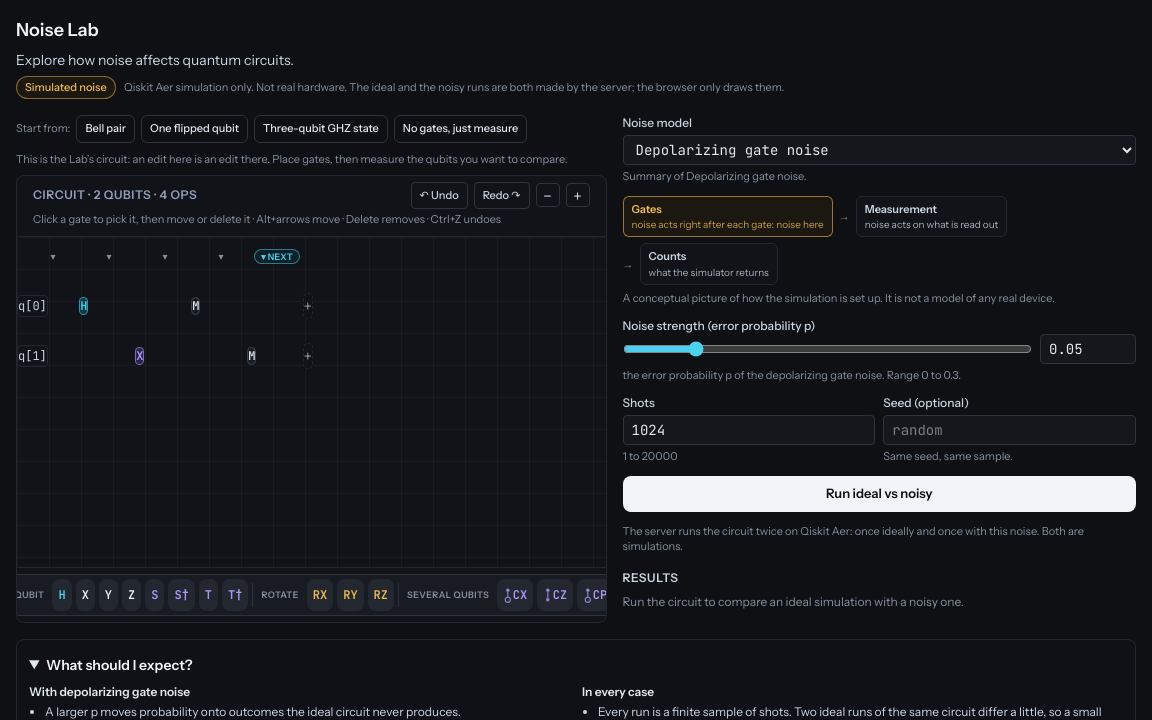
Test: the entry › has a "What should I expect?" section with the model’s notes from the server and the general ones
This screenshot has width=1152, height=720.
Expected: the list item "moves probability onto outcomes the ideal circuit never produces" is shown, x1=45 y1=704 x2=461 y2=719
Select "Readout error" in the dropdown labelled "Noise model" at coordinates (879, 150), box x1=622 y1=134 x2=1136 y2=164
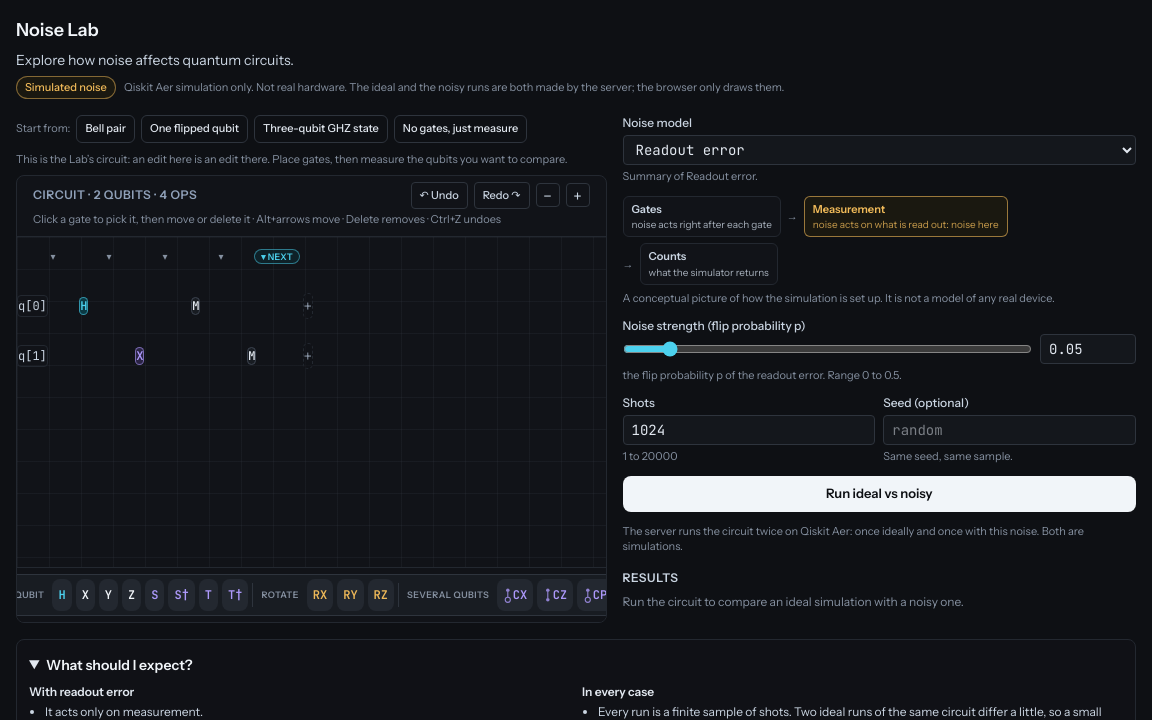
Expected: the list item "It acts only on measurement." is shown, x1=45 y1=704 x2=203 y2=719
